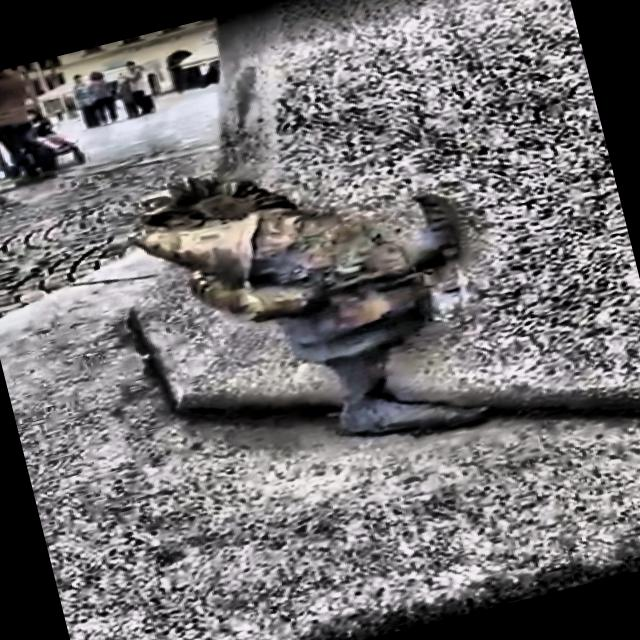Zyczliwek: (138, 178, 485, 434)
